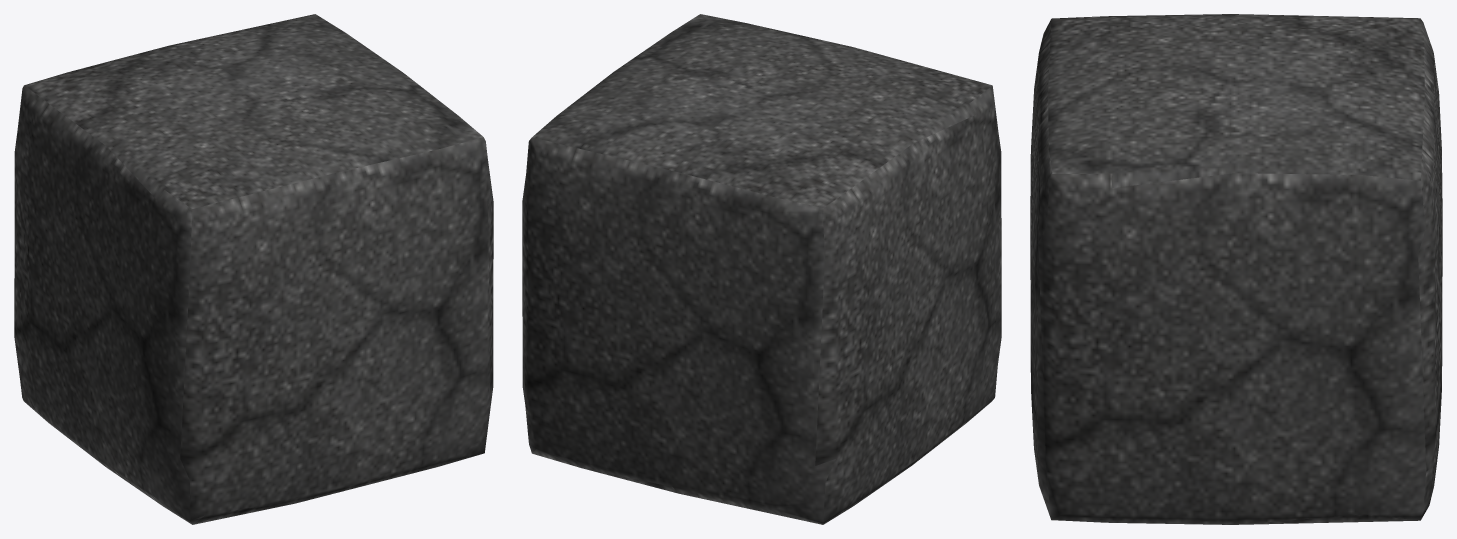
Rendered from Floor_Single_Tile.glb.
The picture shows the model from 3 angles, left to right: view 1: azimuth 30°, elevation 25°; view 2: azimuth 150°, elevation 25°; view 3: azimuth 270°, elevation 25°; orthographic projection. The views are drawn at different scales.
Parts seen in each view (by area): view 1: Floor_Single_Tile; view 2: Floor_Single_Tile; view 3: Floor_Single_Tile.
Boxes of the visible parts, x1=… form: Floor_Single_Tile: x1=14, y1=14, x2=493, y2=524; Floor_Single_Tile: x1=522, y1=14, x2=1001, y2=524; Floor_Single_Tile: x1=1030, y1=14, x2=1442, y2=524.
Bounding box in the file's own units: 4.99 × 4.99 × 4.99.
Materials: 1 (1 with a texture image).
